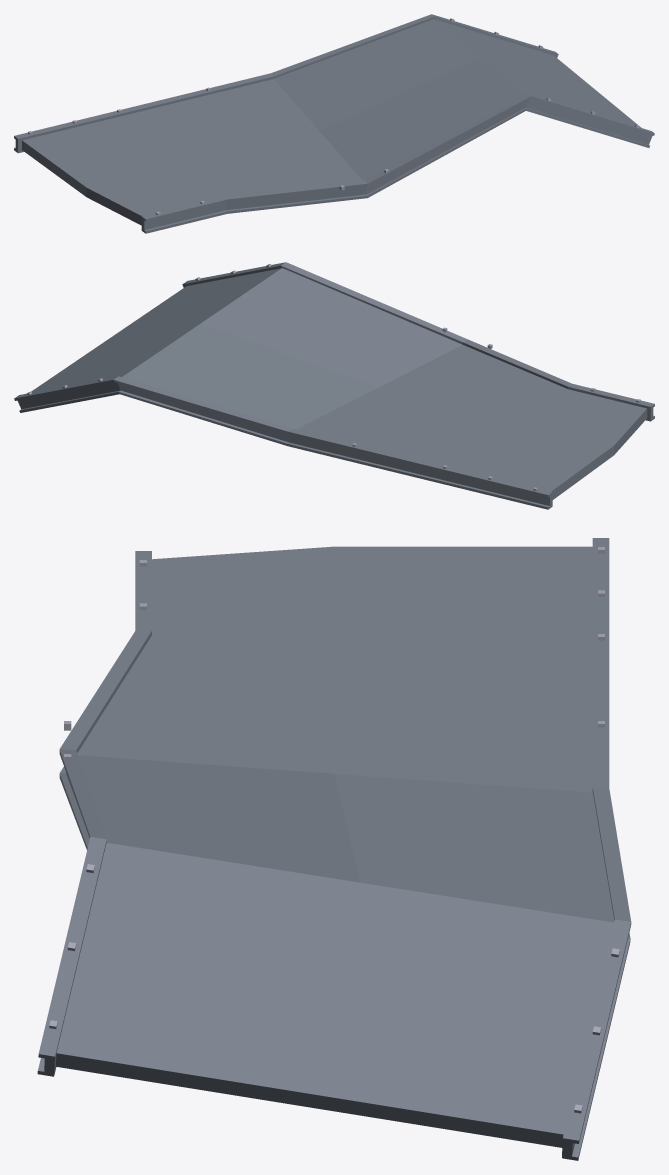
The model's file is Board01_006.fbx.
The picture shows the model from 3 angles, top to bottom: view 1: azimuth 30°, elevation 25°; view 2: azimuth 150°, elevation 25°; view 3: azimuth 270°, elevation 25°; orthographic projection. The views are drawn at different scales.
Visible parts, largest first — view 1: Board01.006; view 2: Board01.006; view 3: Board01.006.
Boxes of the visible parts, x1,y1,x2,y2 form: Board01.006: (14, 14, 654, 233); Board01.006: (14, 262, 654, 509); Board01.006: (37, 538, 631, 1160).
Bounding box in the file's own units: 2.08 × 0.3485 × 1.
